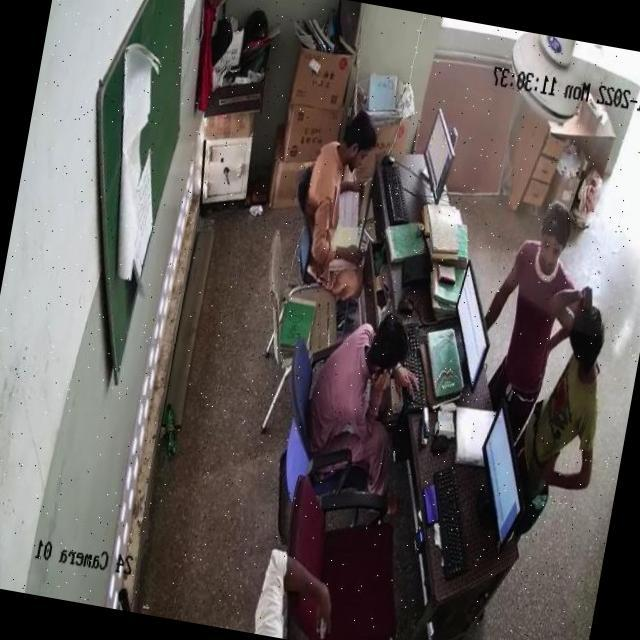person: (302, 314, 402, 472), (289, 100, 374, 284), (526, 293, 608, 480), (500, 210, 580, 381)
